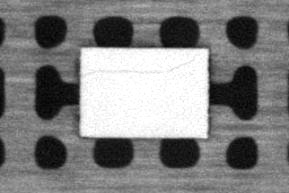DIE_CRACK: (82, 52, 199, 76)
